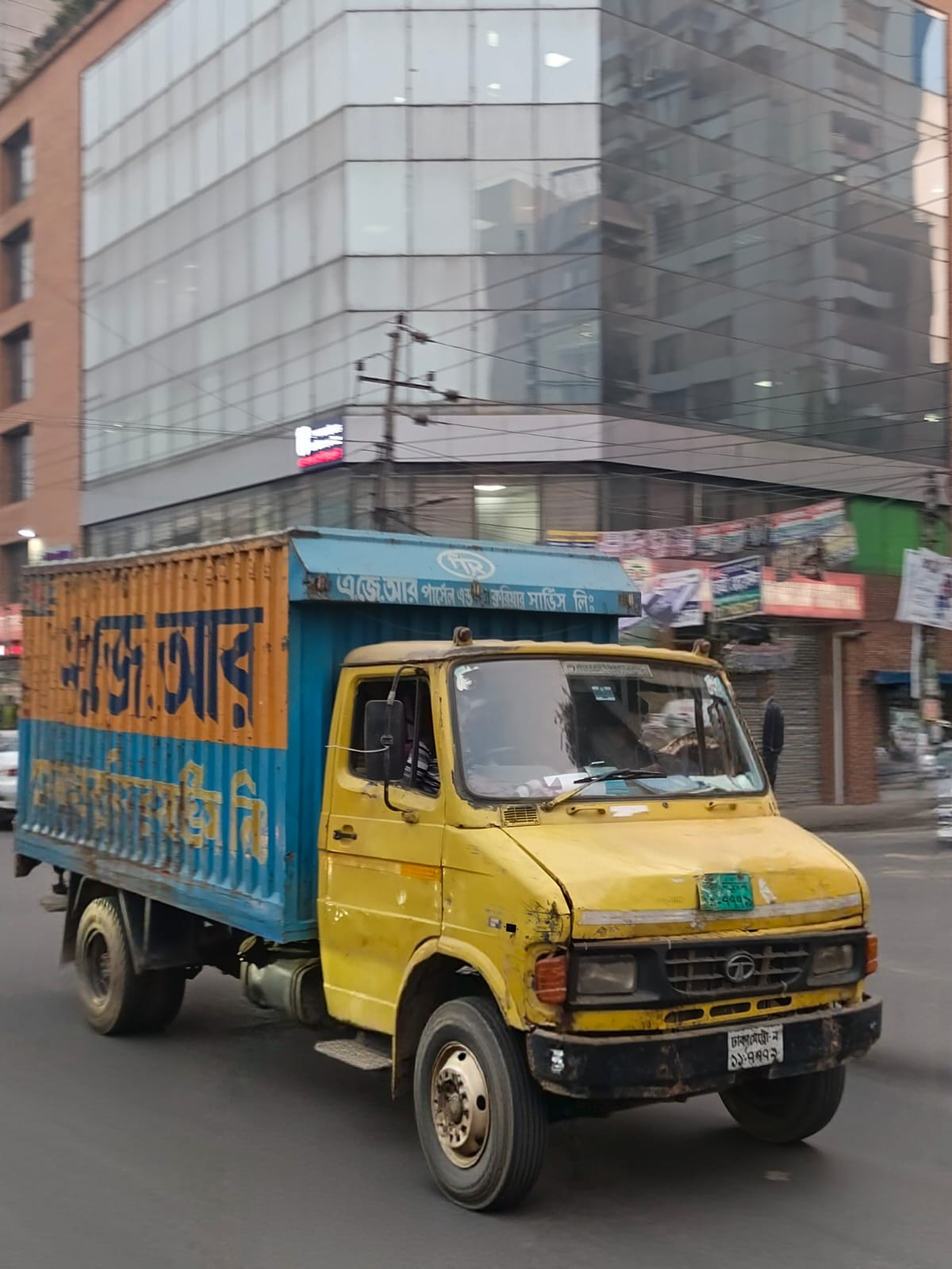Truck: (0, 498, 952, 1269)
